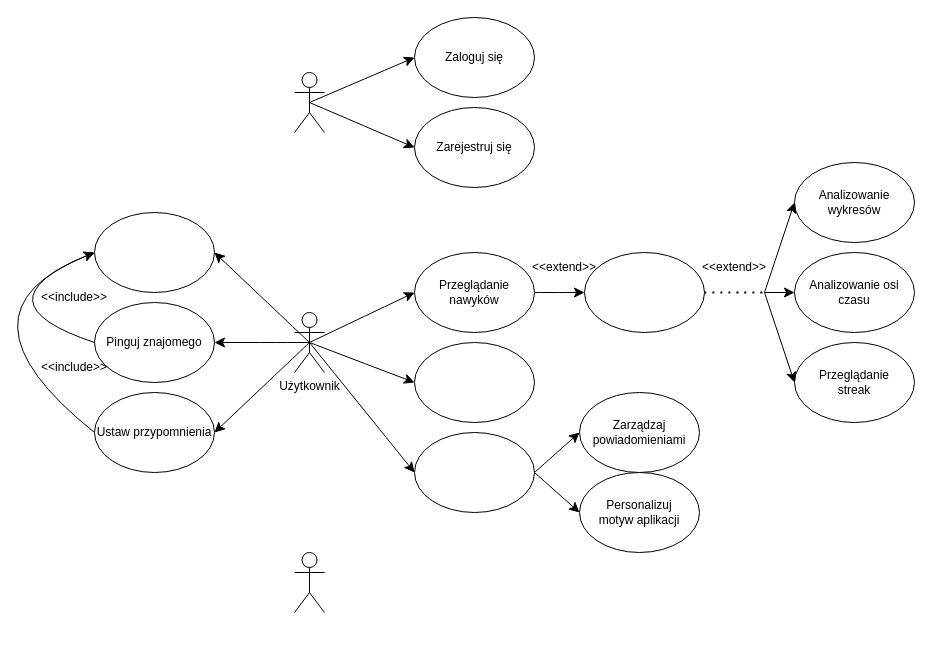
The diagram is 932 pixels wide and 651 high, and some of its shapes have lost their labels. Here are the shapes that lost their labels. From the top down, the box of each, then its label:
(294, 72, 324, 132): Niezalogowany użytkownik
(94, 212, 214, 292): Otrzymaj powiadomienie
(584, 252, 704, 332): Przeglądanie postępów
(414, 342, 534, 422): Zarządzanie nawykami
(414, 432, 534, 512): Zarządzaj aplikacją
(294, 552, 324, 612): System
